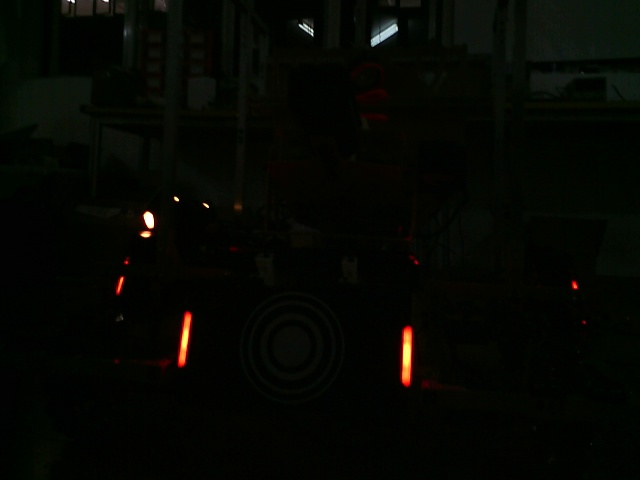lamp: (394, 323, 417, 389), (175, 309, 193, 369)
